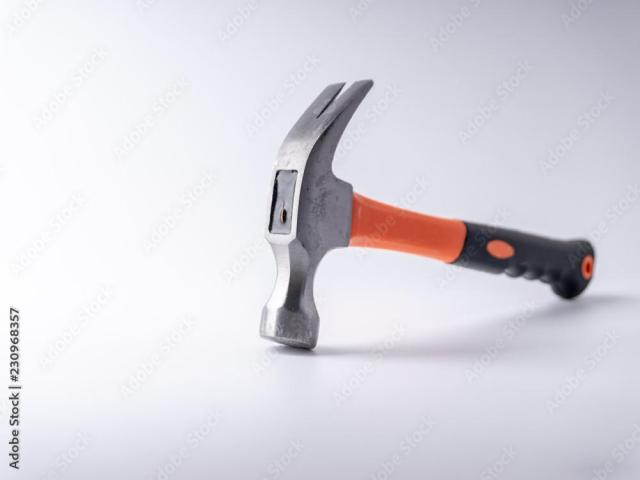hammer: (259, 79, 597, 351)
